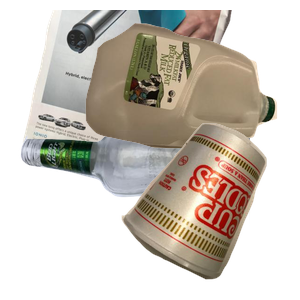glass: (18, 124, 258, 300)
paper: (20, 10, 244, 190)
plastic: (83, 21, 300, 162)
trash: (119, 121, 300, 300)
